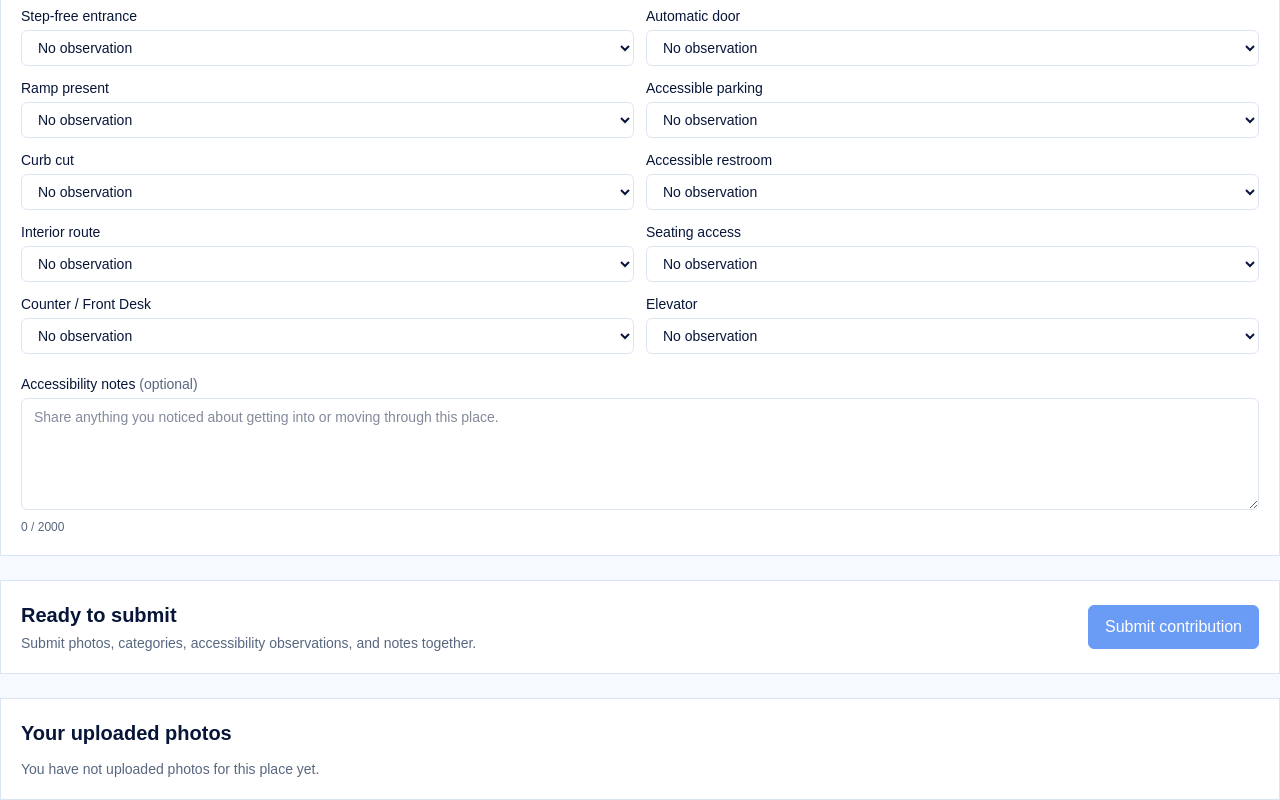
Test case: photo uploader category defaults › uses one contribution CTA and keeps accessibility notes visible with a 2,000 character counter
(page scrolled)
Replace the text in the text box labelled "Accessibility notes (optional) 0 / 2000" with "Level route from the parking area." at (640, 454), box top-left (21, 398), bottom-right (1259, 510)
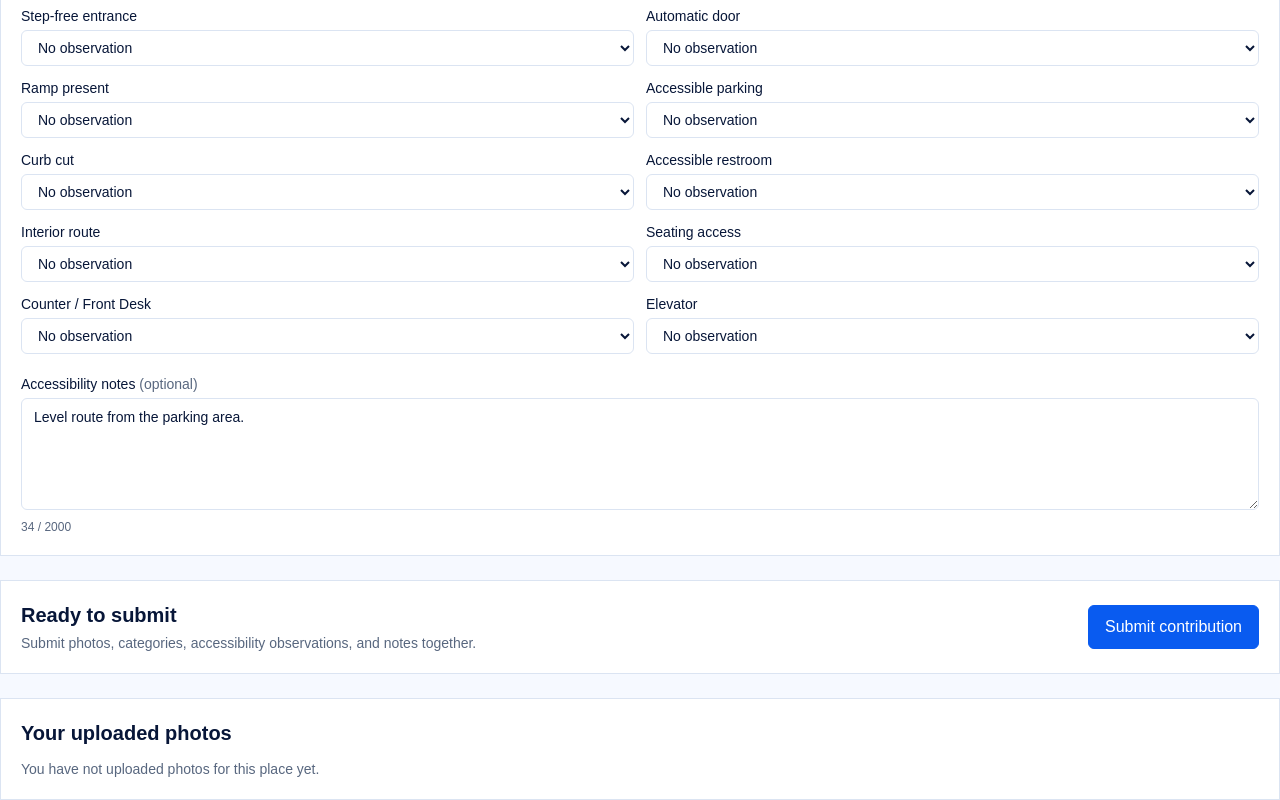
Now the button "Submit contribution" is enabled, box top-left (1088, 605), bottom-right (1259, 649)
Now the text "34 / 2000" is shown, box top-left (21, 520), bottom-right (71, 534)
